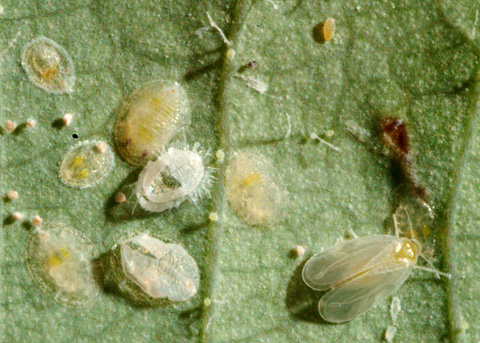whitefly: (302, 212, 448, 323)
